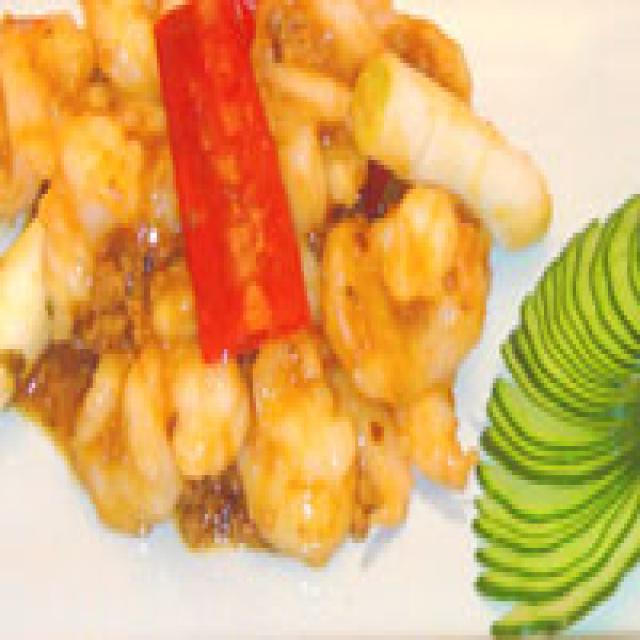熟制海鲜: (0, 0, 547, 562)
